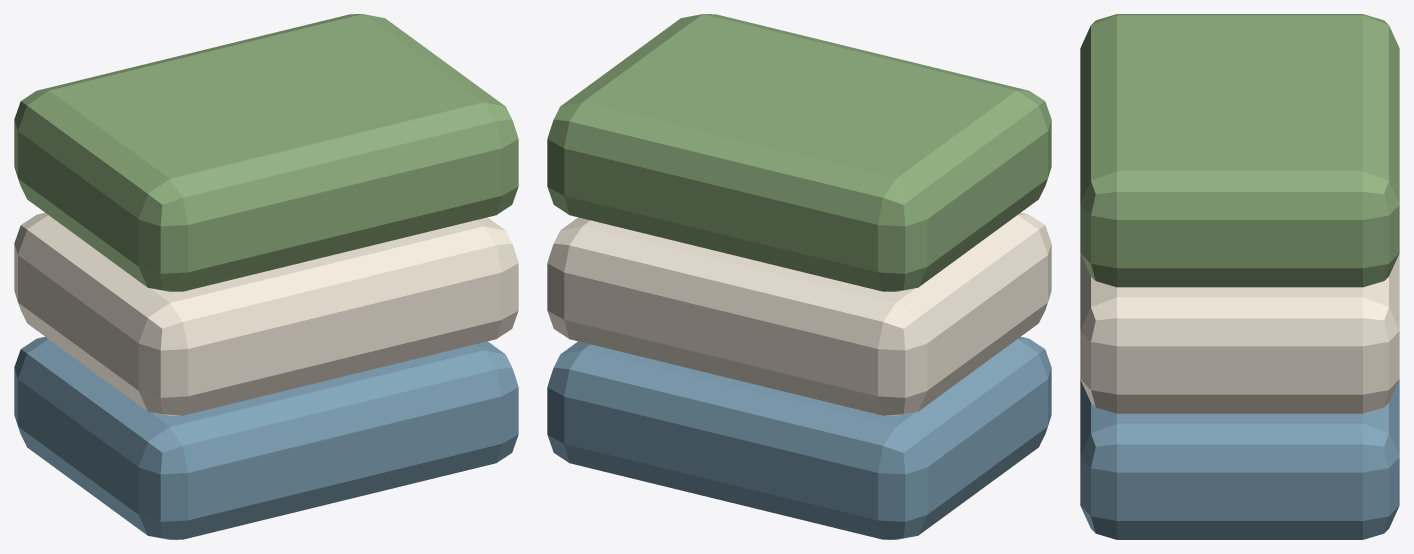
Rendered from hh_towel_stack.glb.
The picture shows the model from 3 angles, left to right: view 1: azimuth 30°, elevation 25°; view 2: azimuth 150°, elevation 25°; view 3: azimuth 270°, elevation 25°; orthographic projection.
Visible parts, largest first — view 1: towel.002, towel.001, towel; view 2: towel.002, towel.001, towel; view 3: towel.002, towel, towel.001.
Part boxes in pixels (x1,y1,x2,y2): towel.002: (14,14,518,291); towel.001: (14,212,518,415); towel: (14,337,518,539); towel.002: (547,14,1051,291); towel.001: (547,212,1051,415); towel: (547,337,1051,539); towel.002: (1080,14,1399,287); towel: (1080,380,1399,539); towel.001: (1080,253,1399,413).
Bounding box in the file's own units: 0.36 × 0.33 × 0.26.
